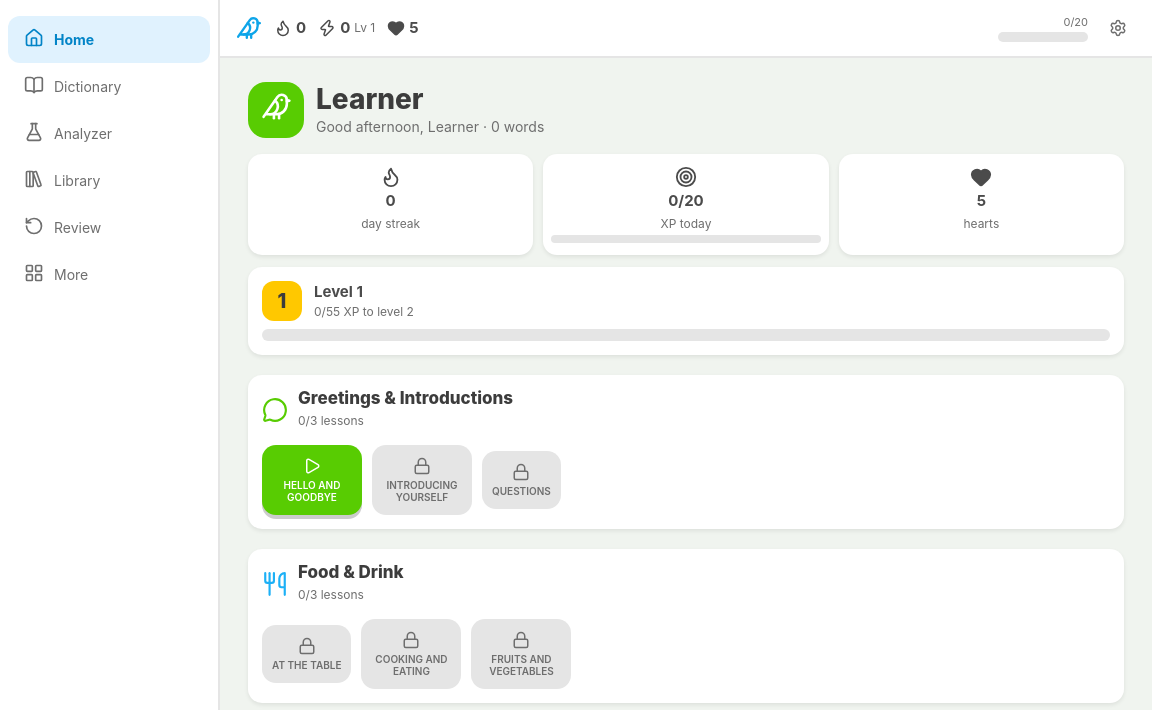
App › repeats the guided tour from settings
Click the button named "open settings": x=1118, y=28 x1=1100 y1=10 x2=1136 y2=46
(page scrolled)
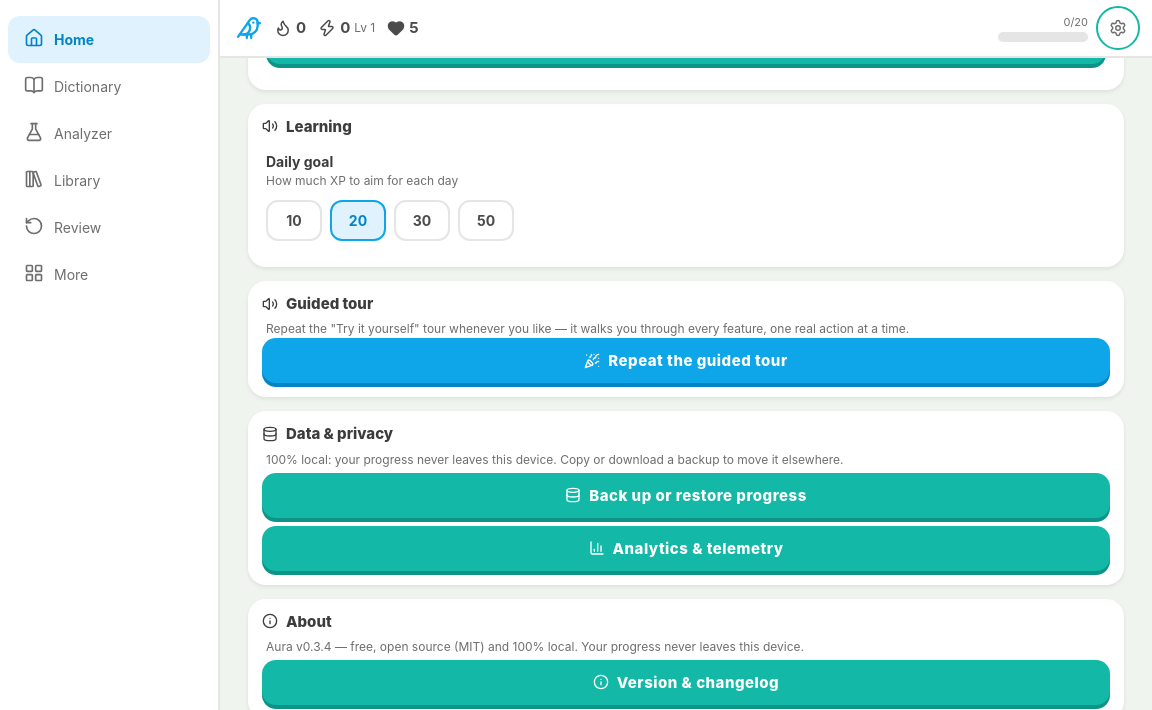
Click the button "Repeat the guided tour": x=686, y=361 x1=262 y1=338 x2=1110 y2=383
(page scrolled)
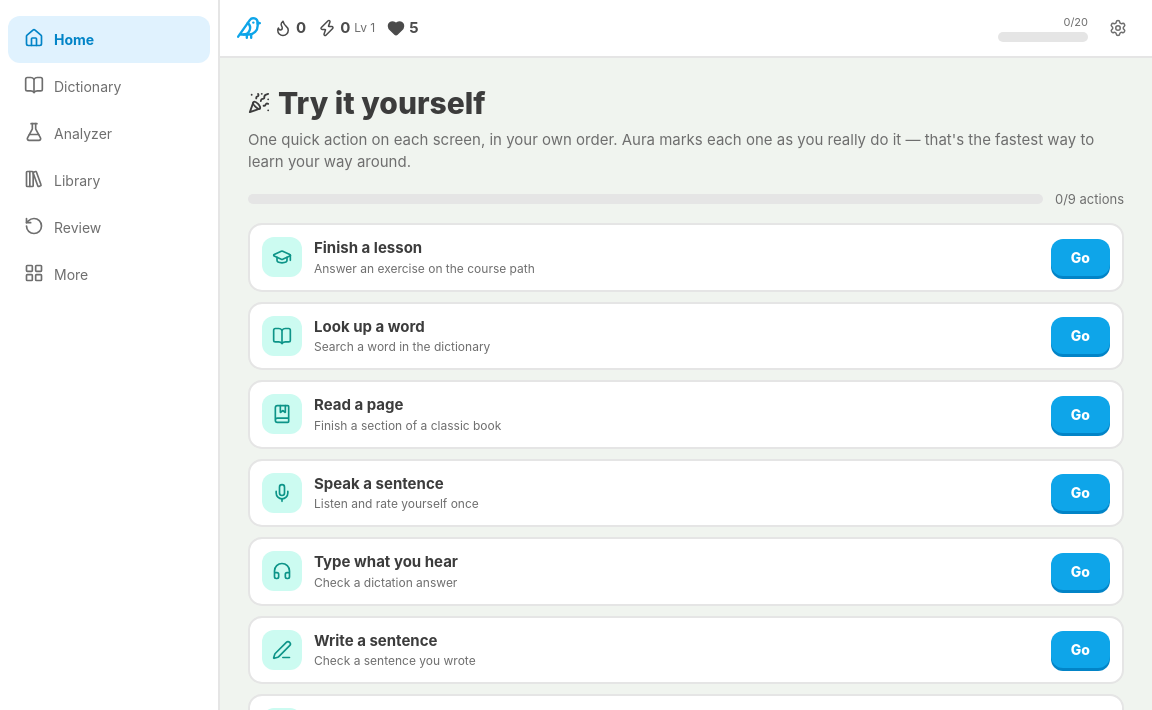
expect the heading "Try it yourself" is shown: met, box x1=248 y1=85 x2=486 y2=121
